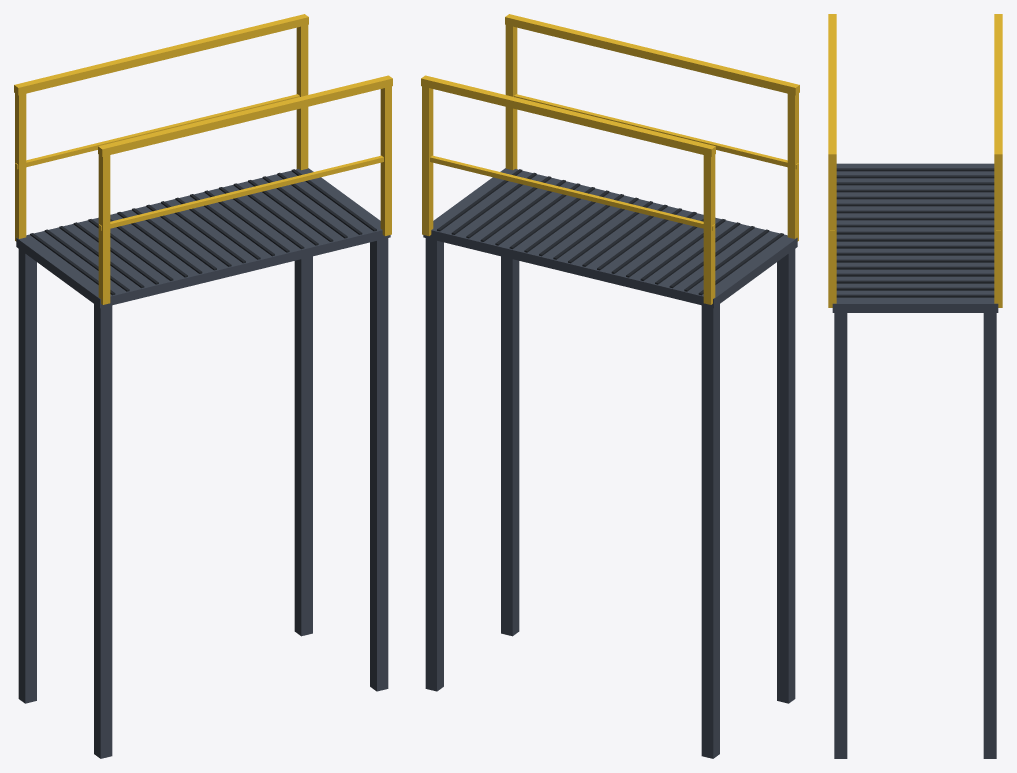
File: catwalk_2m.glb
The picture shows the model from 3 angles, left to right: view 1: azimuth 30°, elevation 25°; view 2: azimuth 150°, elevation 25°; view 3: azimuth 270°, elevation 25°; orthographic projection.
Visible parts, largest first — view 1: catwalk_2m; view 2: catwalk_2m; view 3: catwalk_2m.
Boxes of the visible parts, <box> form: catwalk_2m: <box>14,14,392,758</box>; catwalk_2m: <box>421,14,799,758</box>; catwalk_2m: <box>828,14,1002,758</box>.
Bounding box in the file's own units: 2 × 4.03 × 1.05.
